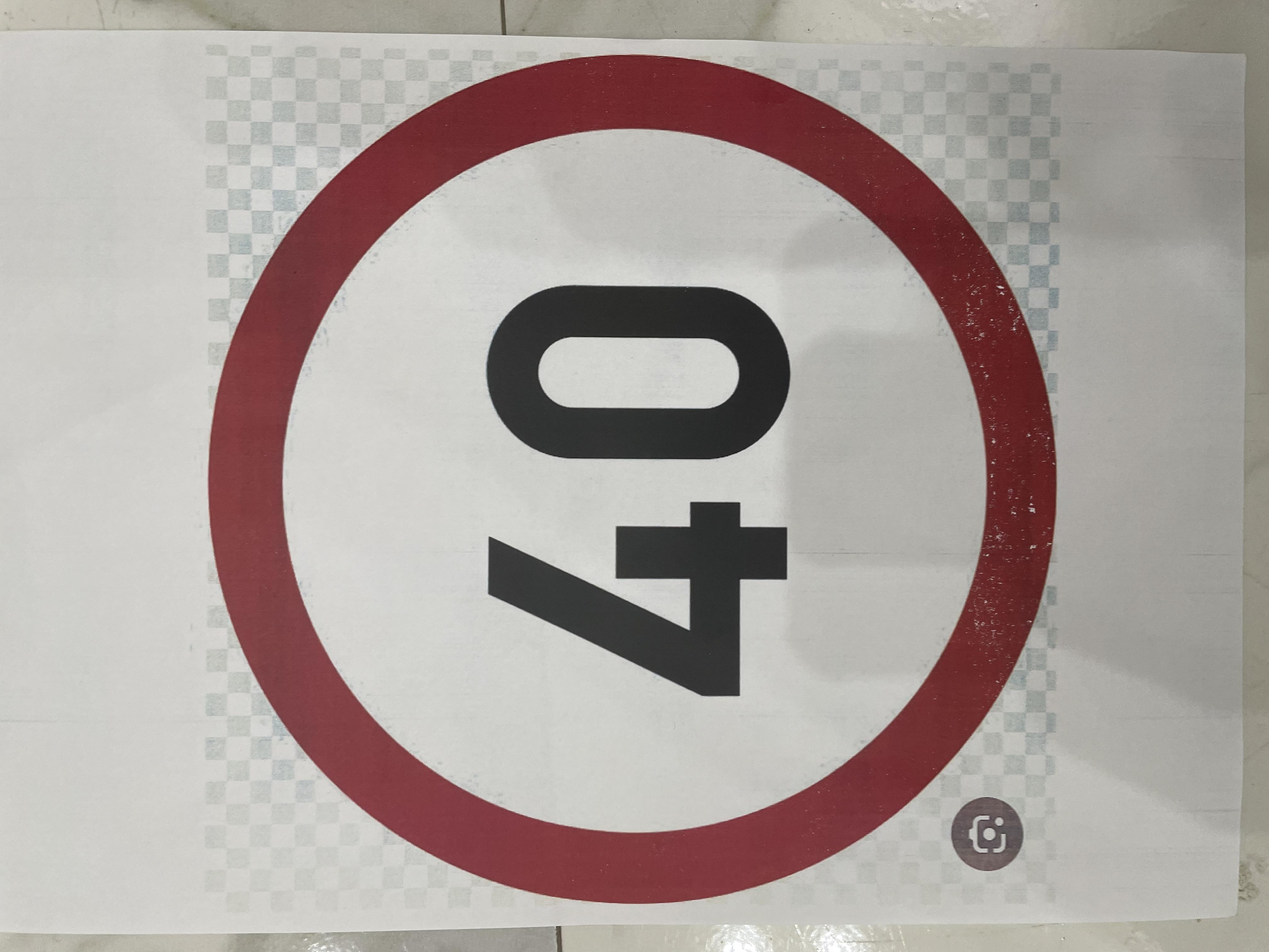40-Speed: (47, 137, 1227, 802)
